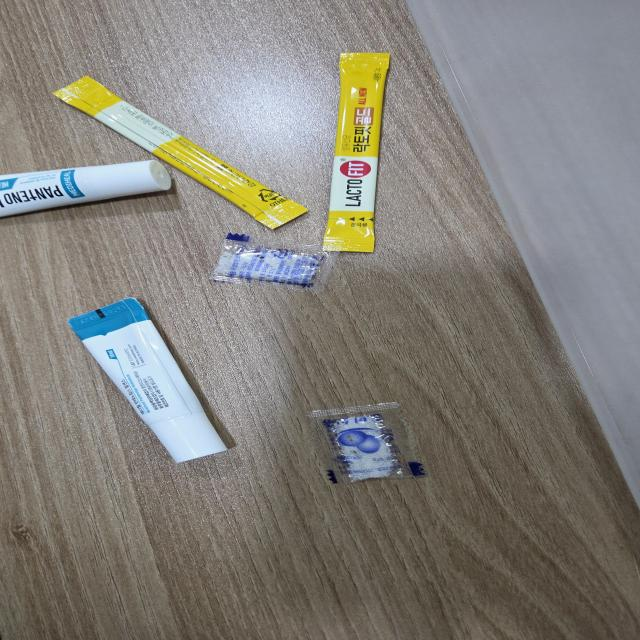0: (66, 296, 230, 468)
lacto: (52, 74, 312, 231), (322, 49, 393, 258)
lib: (3, 158, 173, 217)
salt: (307, 400, 426, 487), (203, 230, 338, 300)
